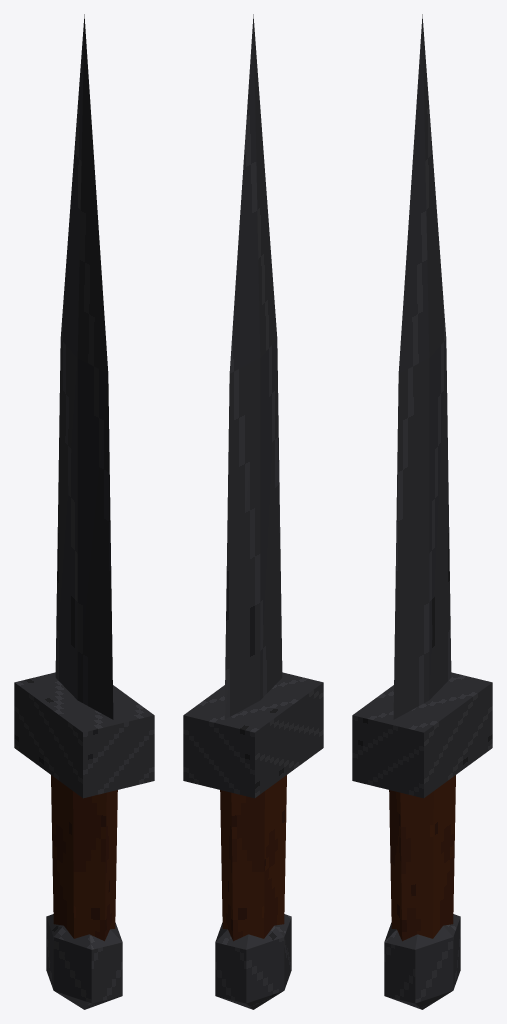
The model's file is daga.glb.
The picture shows the model from 3 angles, left to right: view 1: azimuth 30°, elevation 25°; view 2: azimuth 150°, elevation 25°; view 3: azimuth 330°, elevation 25°; orthographic projection.
Visible parts, largest first — view 1: hoja, guarda, empunadura, pomo; view 2: hoja, guarda, empunadura, pomo; view 3: hoja, guarda, empunadura, pomo.
Boxes of the visible parts, x1,y1,x2,y2 form: hoja: (55,14,113,719); guarda: (14,672,154,798); empunadura: (51,775,117,941); pomo: (46,914,122,1009); hoja: (224,14,282,719); guarda: (183,672,323,798); empunadura: (220,775,286,941); pomo: (215,914,291,1009); hoja: (393,14,451,719); guarda: (352,672,492,798); empunadura: (389,775,455,941); pomo: (384,914,460,1009).
Size of the model in its own units: 0.03 by 0.4 by 0.05.
1 material, 1 textured.
